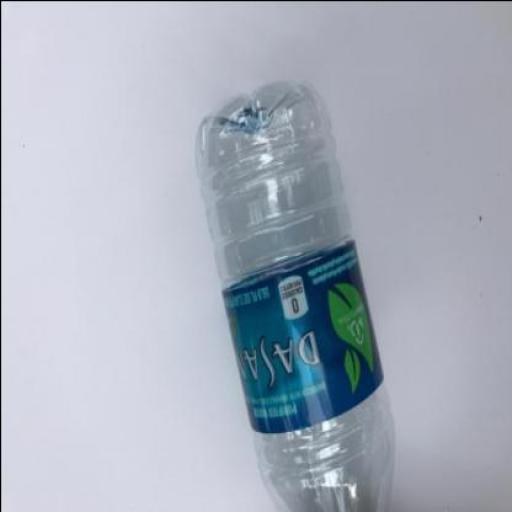plastic: (192, 79, 394, 511), (219, 239, 382, 432)
